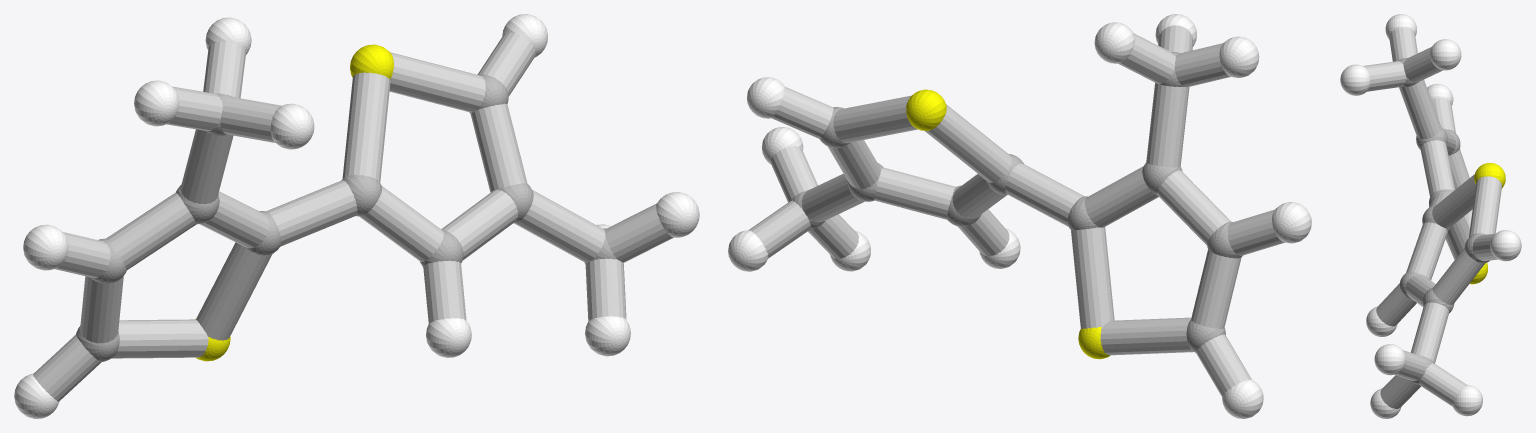
Rendered from Methylthiophene_Phi_20_Theta_310_Methylthiophene.glb.
3 renders of one model, left to right at view 1: azimuth 30°, elevation 25°; view 2: azimuth 150°, elevation 25°; view 3: azimuth 270°, elevation 25°, orthographic. The views are drawn at different scales.
Visible parts, largest first — view 1: grp7965, grp3621, grp1, grp7241; view 2: grp7965, grp3621, grp1, grp7241; view 3: grp7965, grp3621, grp1, grp7241.
Boxes of the visible parts, <box> form: grp7965: <box>33,32,673,401</box>; grp3621: <box>14,14,699,418</box>; grp1: <box>76,74,617,361</box>; grp7241: <box>195,44,393,361</box>; grp7965: <box>748,25,1284,396</box>; grp3621: <box>728,14,1311,418</box>; grp1: <box>791,52,1242,352</box>; grp7241: <box>906,89,1110,359</box>; grp7965: <box>1363,27,1502,408</box>; grp3621: <box>1340,14,1521,418</box>; grp1: <box>1398,57,1489,384</box>; grp7241: <box>1469,163,1505,284</box>.
Size of the model in its own units: 9.58 by 5.54 by 3.44.
